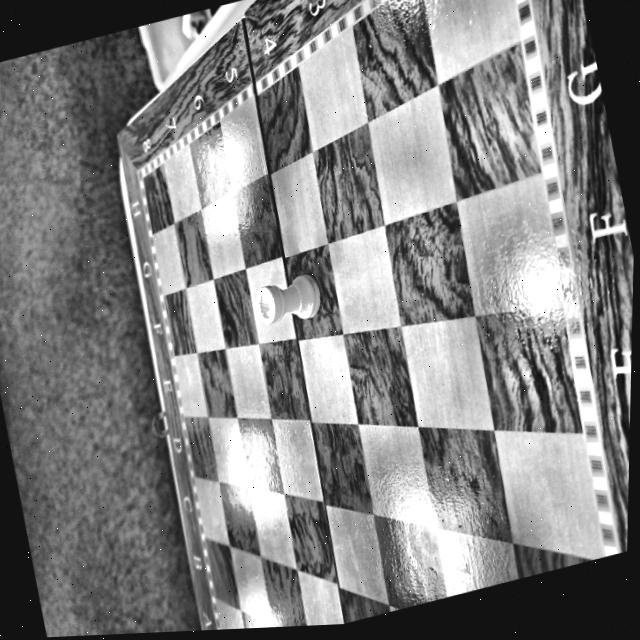white-rook: (256, 273, 320, 321)
